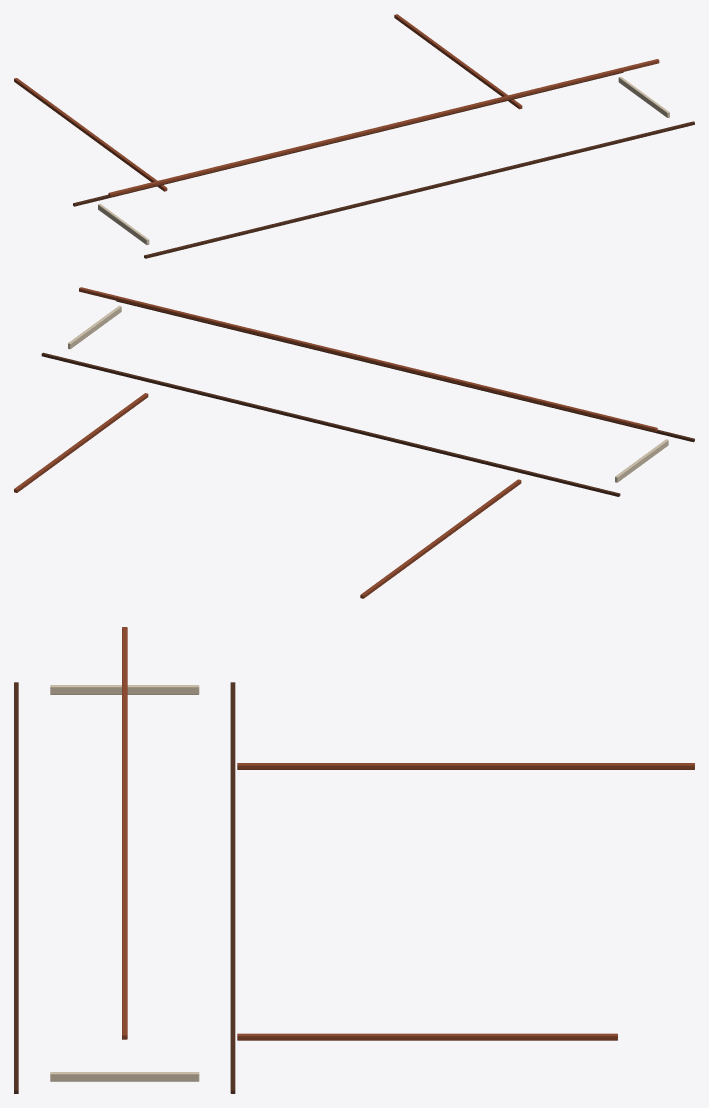
The model's file is EXP_RoofTrim_ArchitecturalFix.fbx.
3 views of the same model, one above another, from view 1: azimuth 30°, elevation 25°; view 2: azimuth 150°, elevation 25°; view 3: azimuth 270°, elevation 25° (orthographic). The views are drawn at different scales.
Parts seen in each view (by area): view 1: EXP_RoofTrim_V07Fix; view 2: EXP_RoofTrim_V07Fix; view 3: EXP_RoofTrim_V07Fix.
Boxes of the visible parts, <box> form: EXP_RoofTrim_V07Fix: <box>14,14,694,258</box>; EXP_RoofTrim_V07Fix: <box>14,287,694,598</box>; EXP_RoofTrim_V07Fix: <box>14,627,694,1093</box>.
Size of the model in its own units: 3760 by 2651 by 342.
